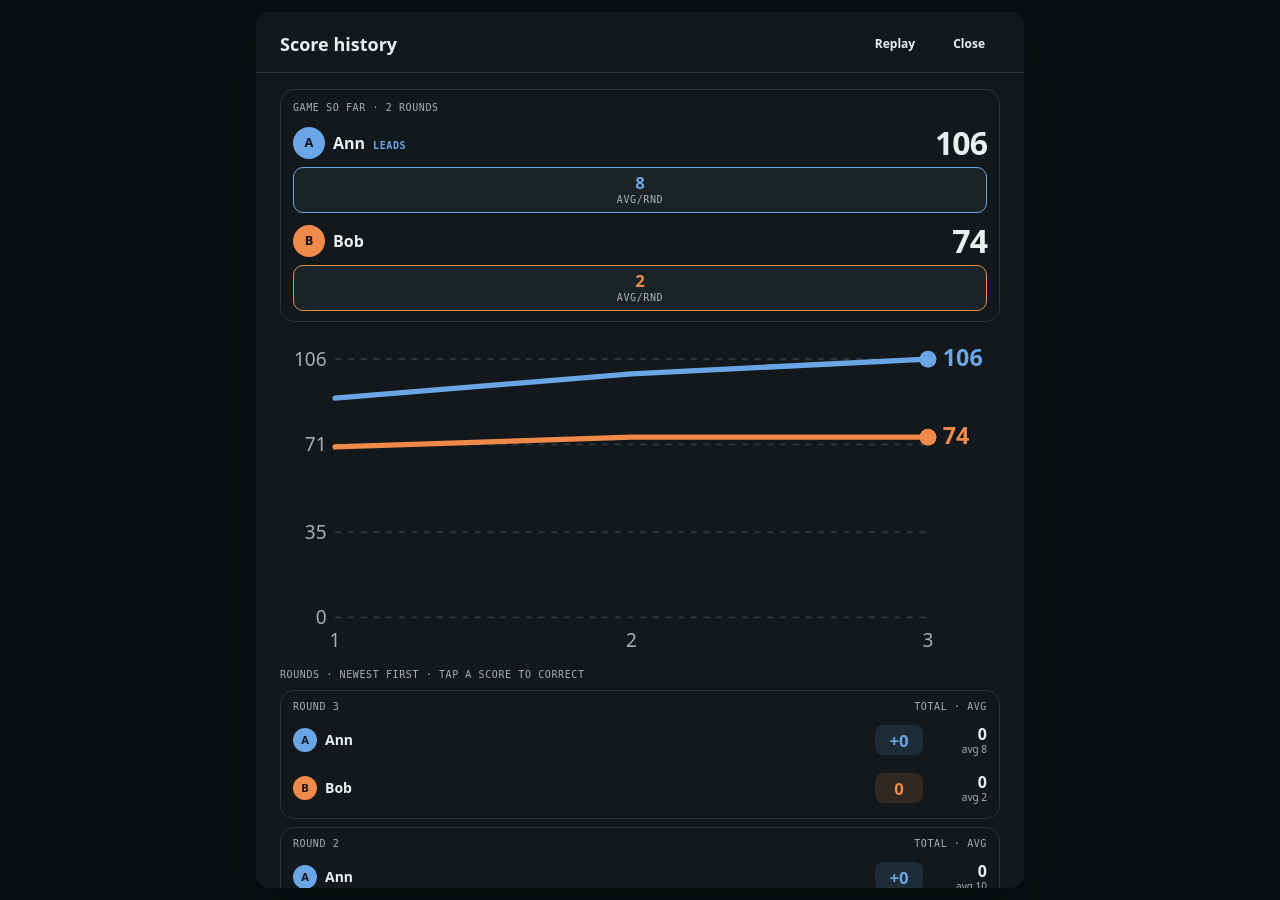
Scenario: RoundHistory › offers Replay once there are two real rounds, and steps with the slider
This screenshot has width=1280, height=900.
Click the button "Replay" at (895, 44), box [860, 28, 930, 60]
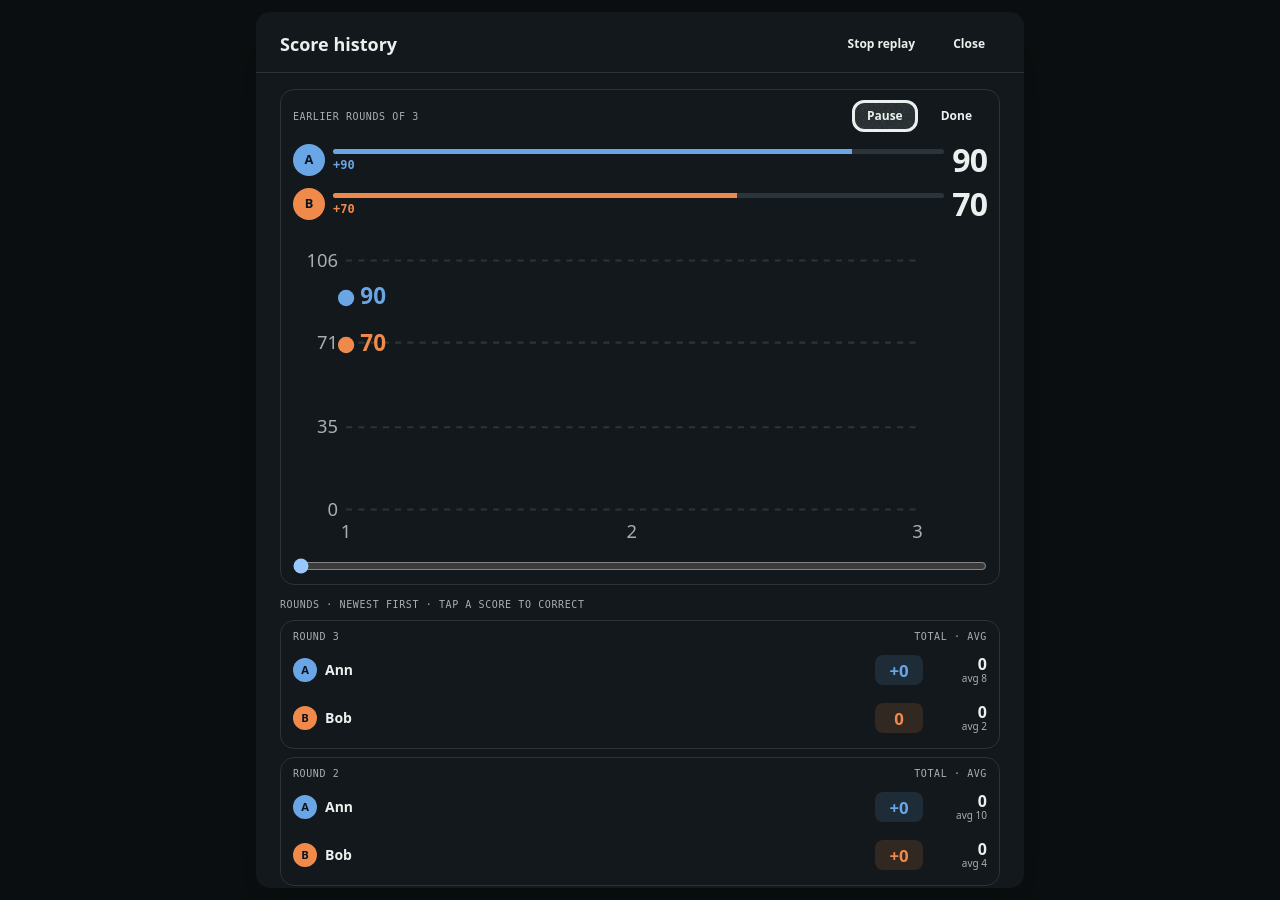
Now the element with test id "round-replay" is shown, box [280, 89, 1000, 585]
Now the element with test id "replay-player" shows "90", box [952, 138, 987, 181]
Set the slider named "Round" to "3" at (979, 566), box [293, 558, 987, 574]
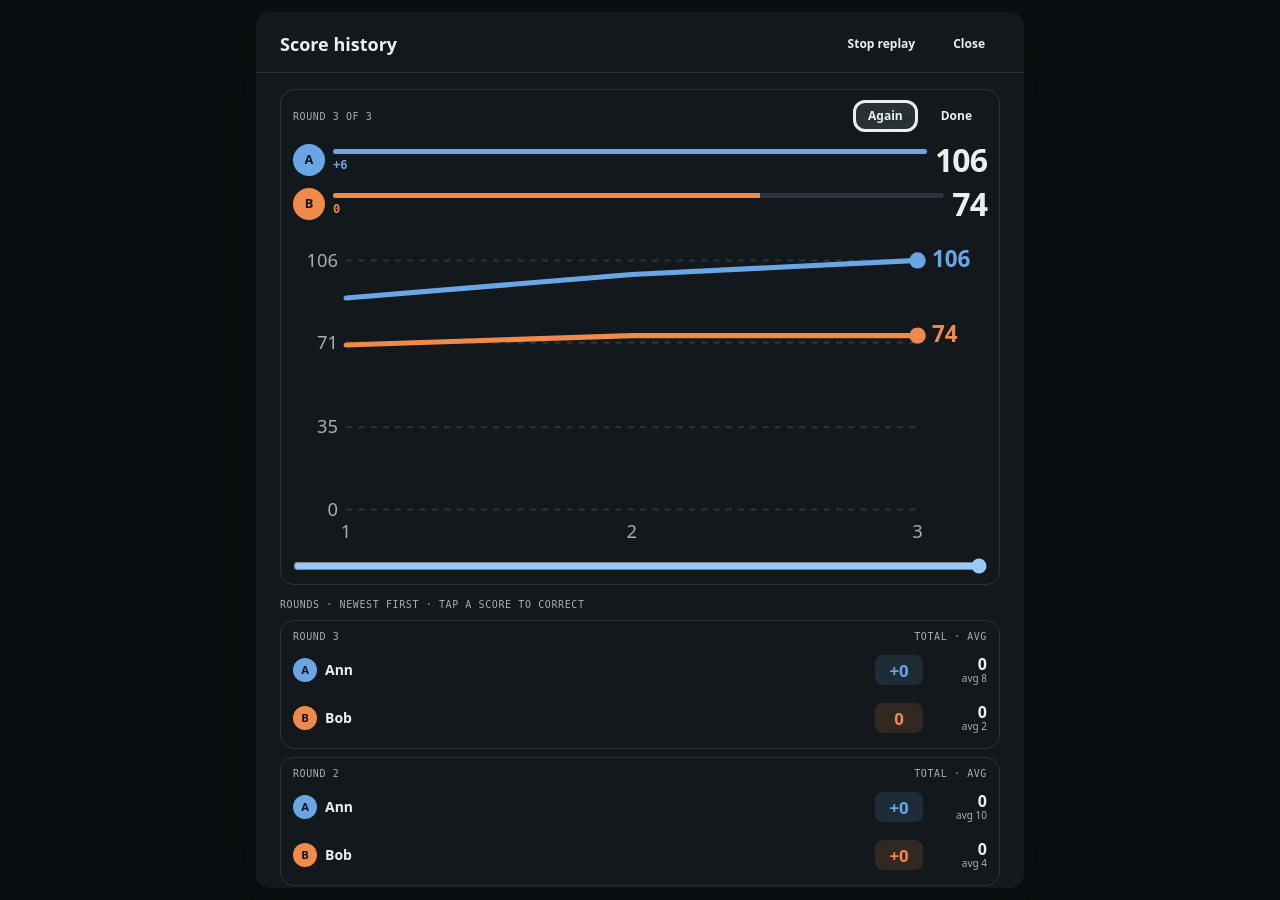
Now the element with test id "replay-player" shows "106", box [935, 138, 987, 181]
Now the button "Again" is shown, box [853, 100, 918, 132]
Click the button "Stop replay" at (881, 44), box [833, 28, 930, 60]
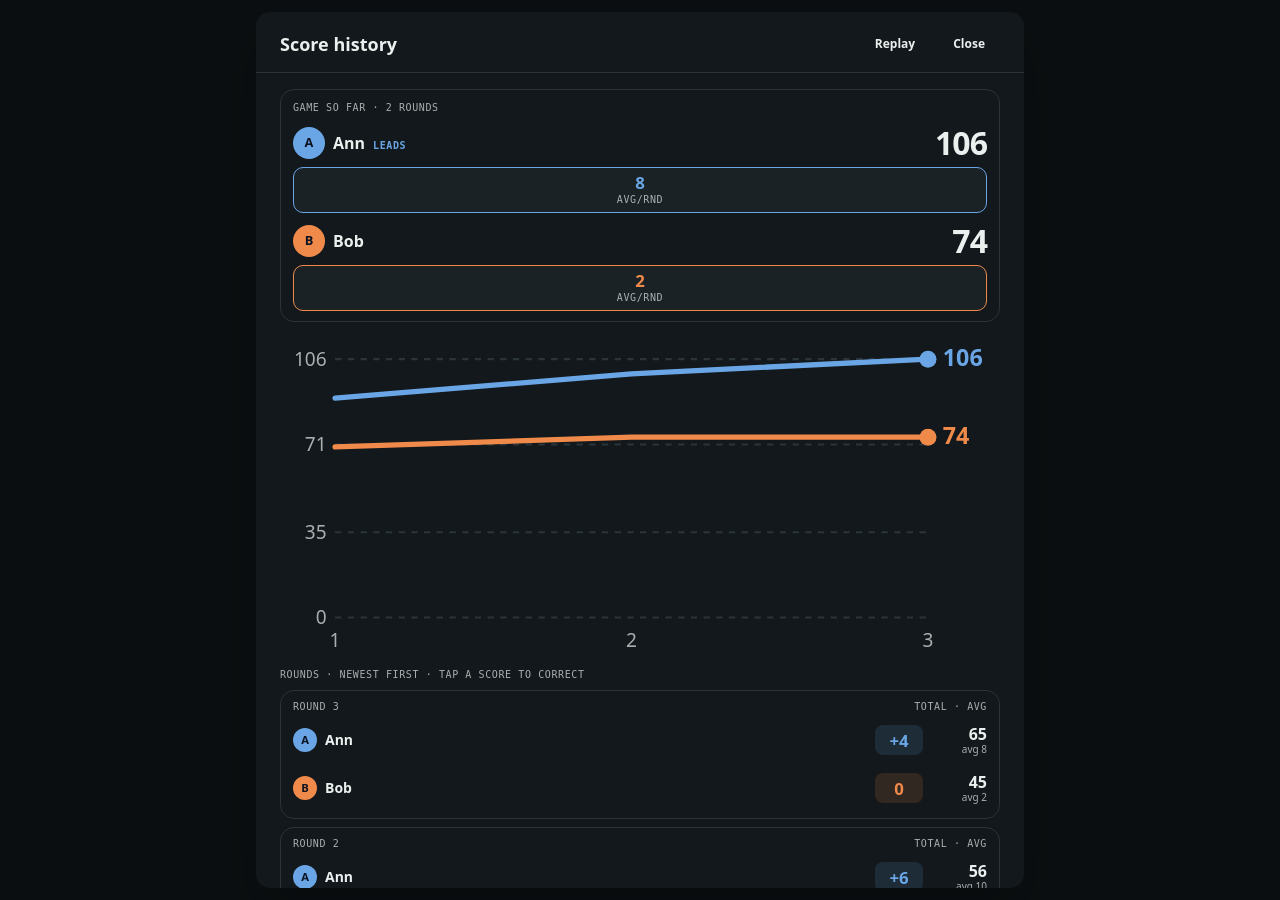
Now the element with test id "round-replay" is gone
